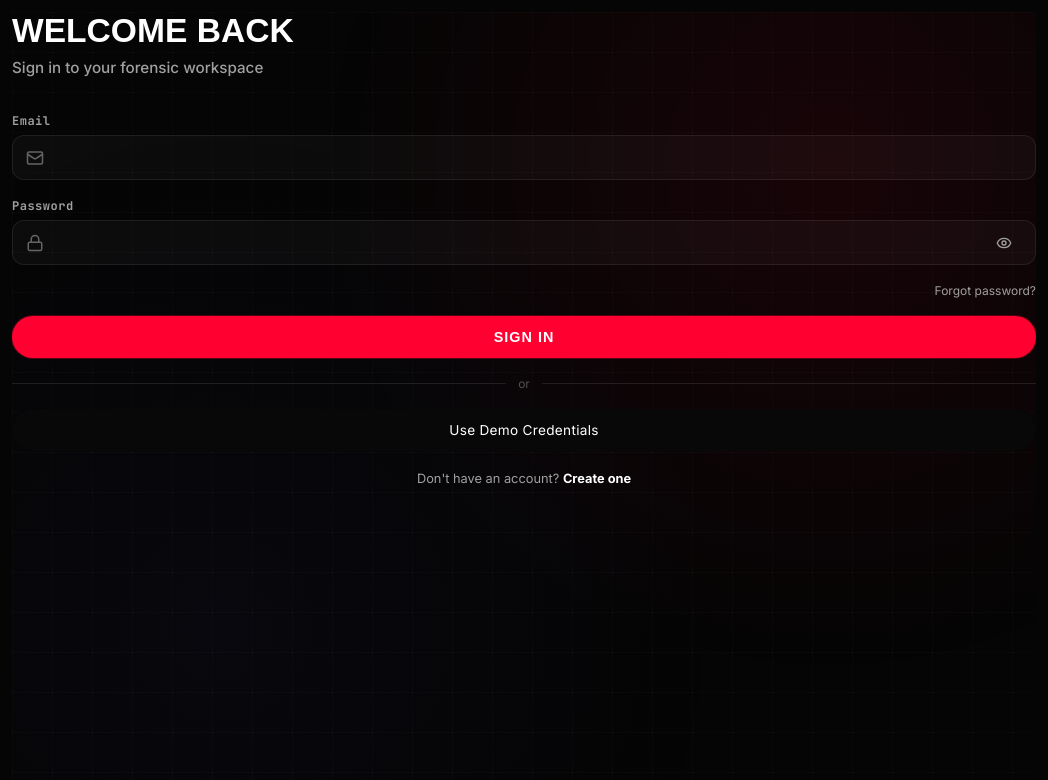
it: LoginPage › shows validation errors on empty submit
Click the button "Sign In" at (524, 337), box [12, 316, 1036, 358]
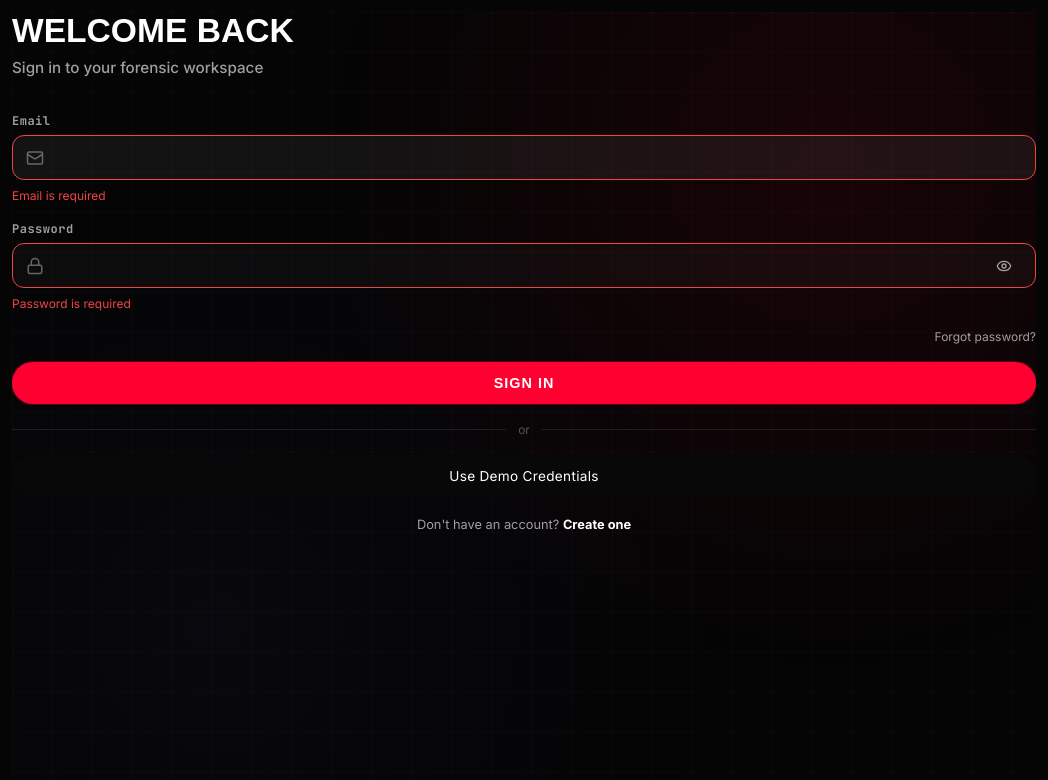
Check: the text "Email is required" is shown, box [12, 188, 106, 203]
